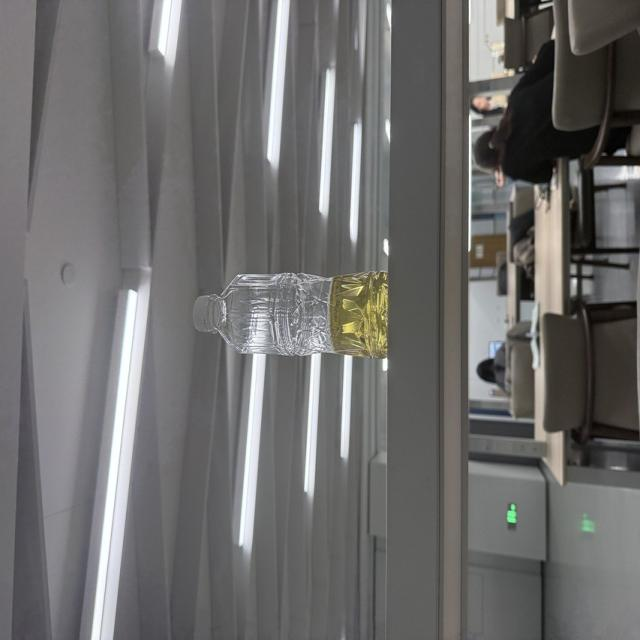low: (194, 271, 388, 356)
